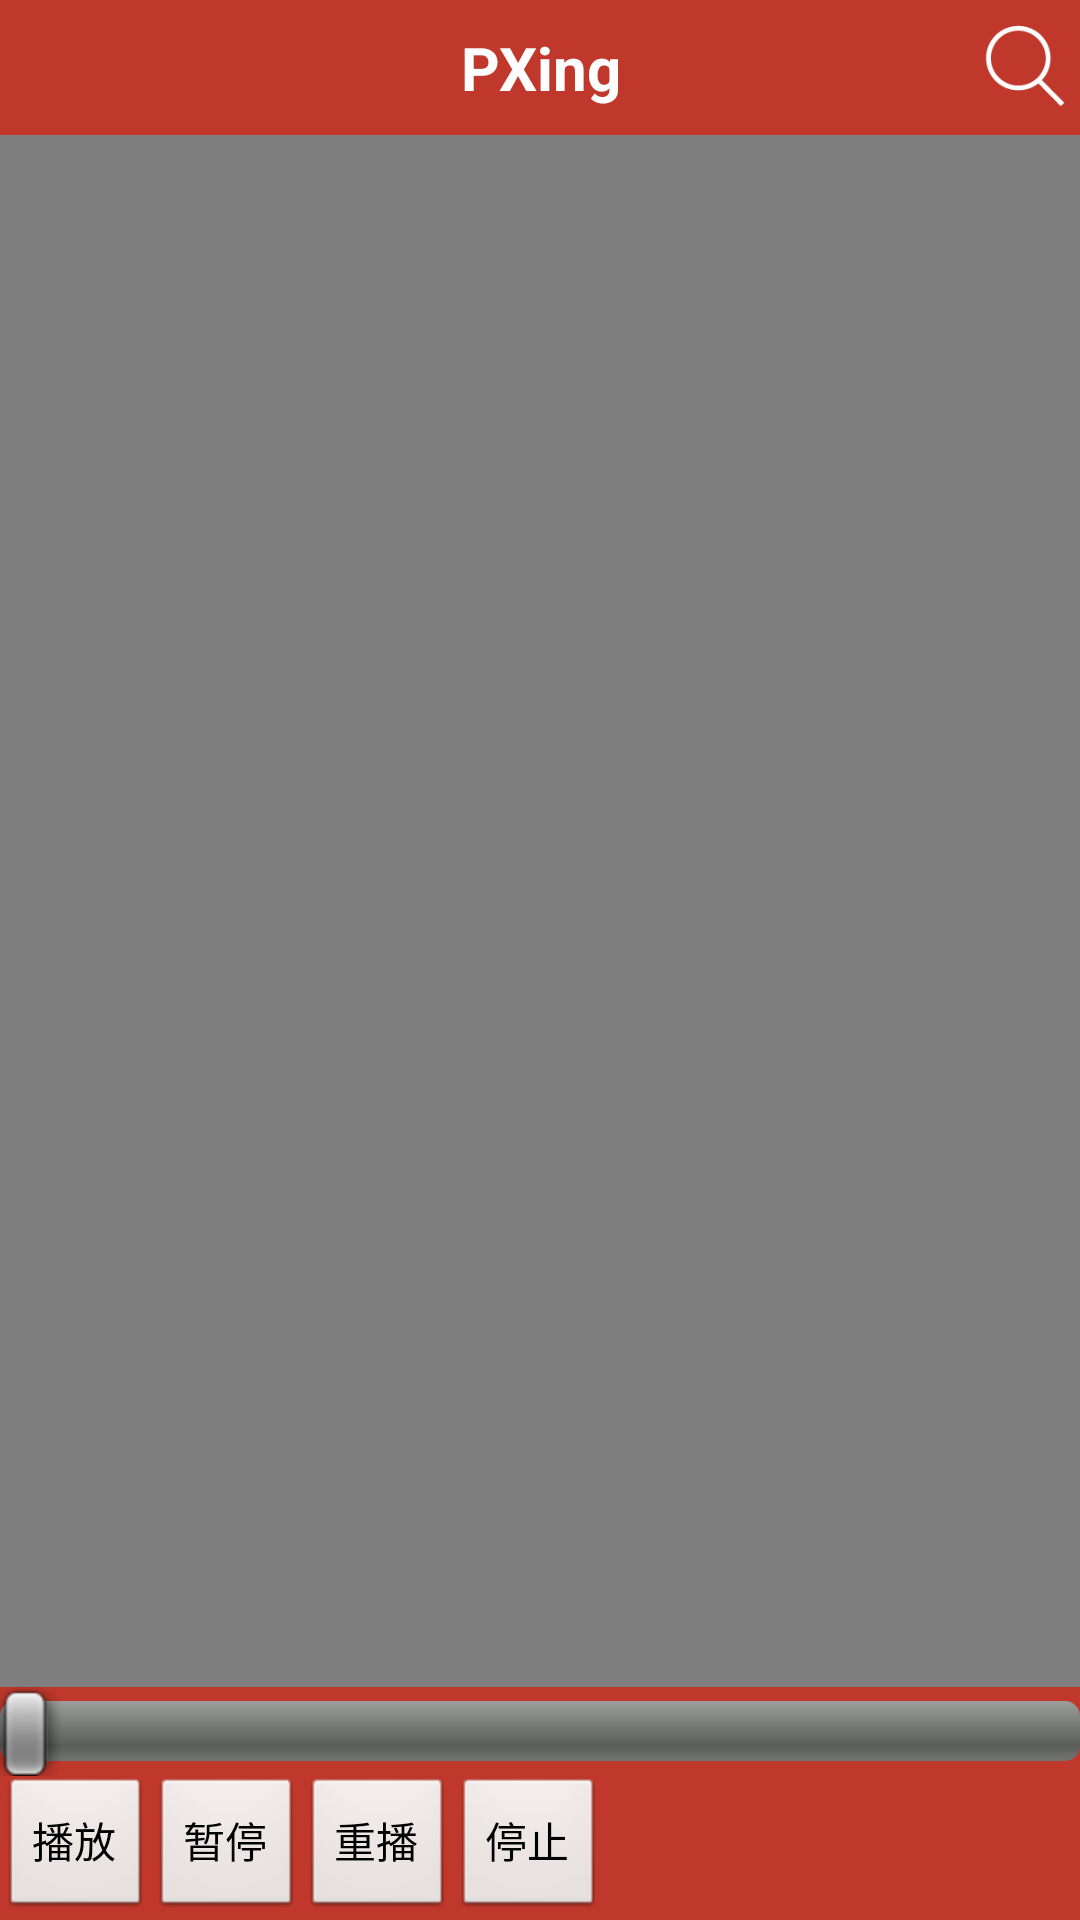

Where to tap for icons on this 1080x1920 app screen, as (x,y):
search day: (1024,65)
